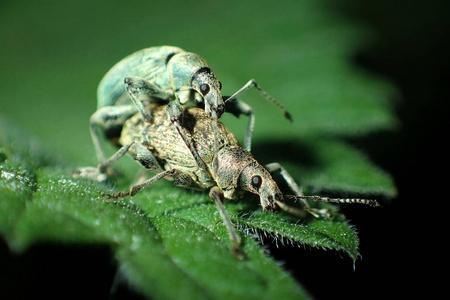Curculionidae: (92, 102, 380, 260), (87, 44, 294, 180)
